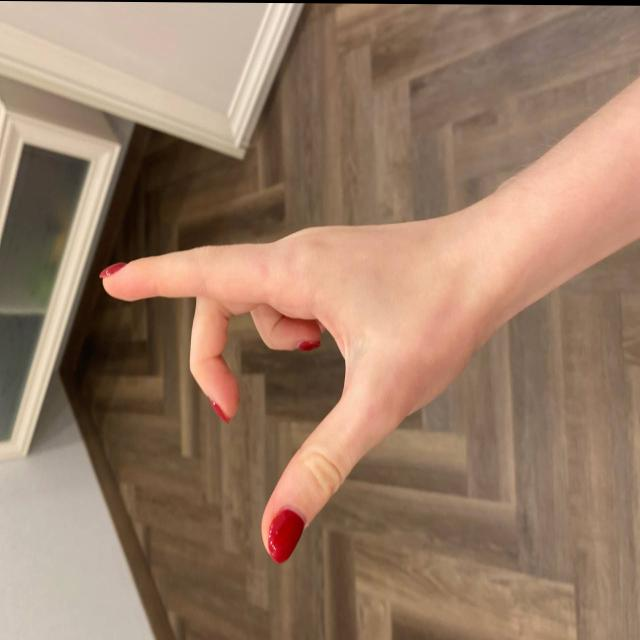b: (83, 198, 405, 556)
